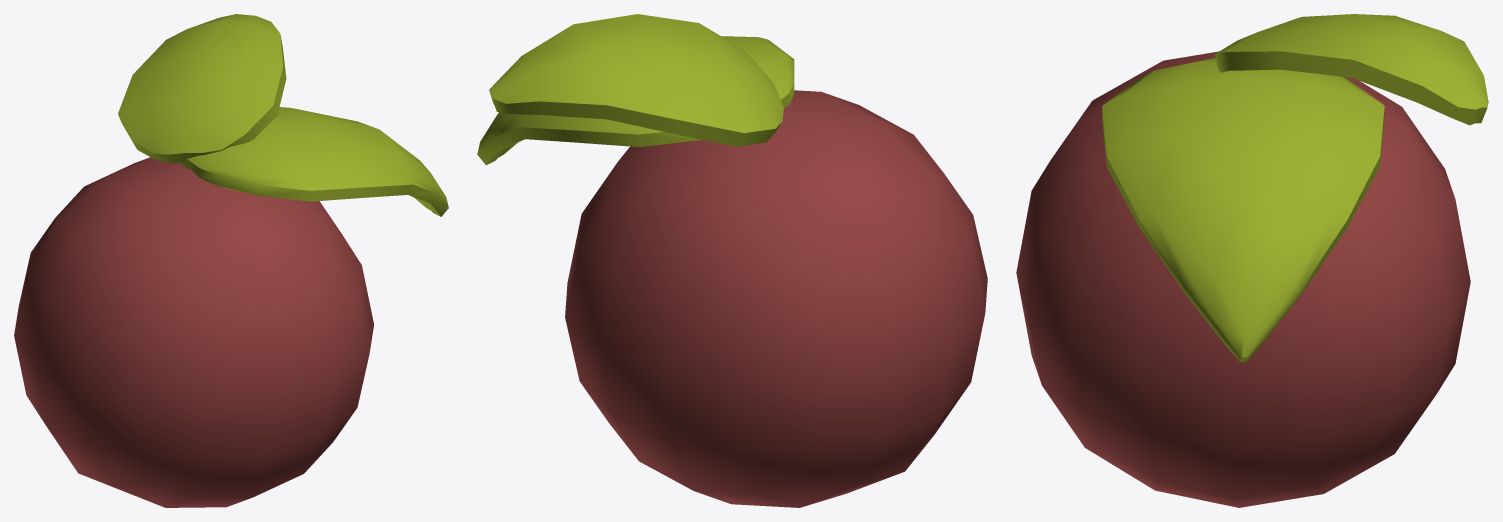
Rendered from Fruit.glb.
3 views of the same model, side by side, from view 1: azimuth 30°, elevation 25°; view 2: azimuth 150°, elevation 25°; view 3: azimuth 270°, elevation 25° (orthographic). The views are drawn at different scales.
Visible parts, largest first — view 1: Fruit; view 2: Fruit; view 3: Fruit.
Part boxes in pixels (x1,y1,x2,y2): Fruit: (14,14,448,507); Fruit: (477,14,987,507); Fruit: (1016,14,1488,507).
Bounding box in the file's own units: 0.8773 × 0.8231 × 0.6887.
